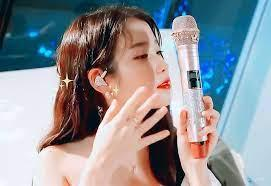earphone: (93, 76, 109, 90)
